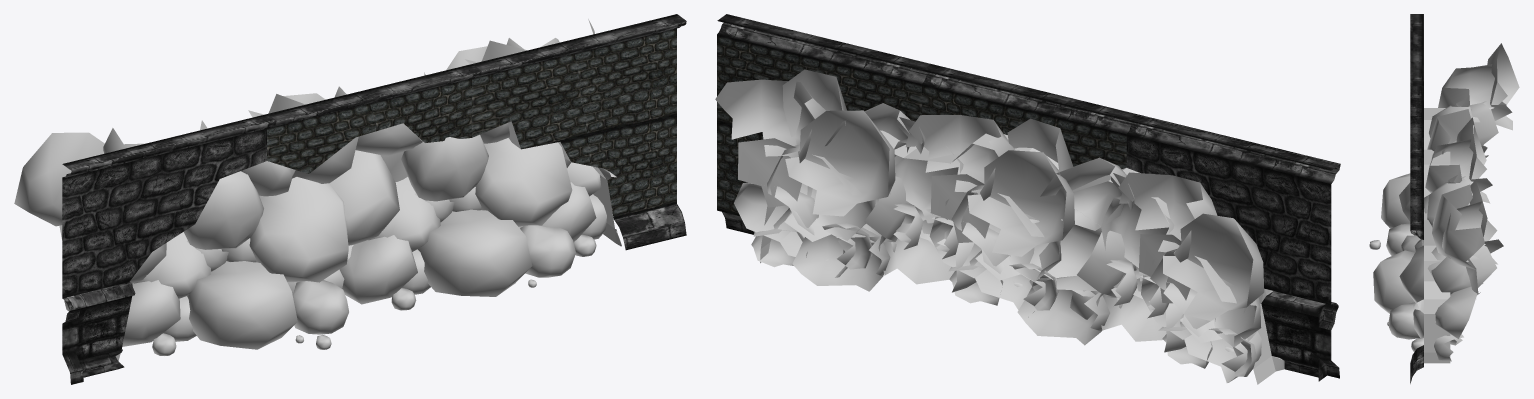
Rendered from default_3x1_broken.dae.
3 views of the same model, side by side, from view 1: azimuth 30°, elevation 25°; view 2: azimuth 150°, elevation 25°; view 3: azimuth 270°, elevation 25° (orthographic). The views are drawn at different scales.
Visible parts, largest first — view 1: polySurface68, polySurface124, polySurface21, polySurface123, polySurface24; view 2: polySurface68, polySurface21, polySurface124, polySurface123, polySurface24; view 3: polySurface68, polySurface24, polySurface123, polySurface21.
Boxes of the visible parts, x1,y1,x2,y2 form: polySurface68: [14, 19, 606, 355]; polySurface124: [267, 28, 676, 219]; polySurface21: [62, 114, 276, 384]; polySurface123: [267, 14, 686, 250]; polySurface24: [115, 121, 621, 360]; polySurface68: [715, 69, 1264, 382]; polySurface21: [1126, 114, 1340, 381]; polySurface124: [717, 34, 1126, 215]; polySurface123: [717, 14, 1135, 234]; polySurface24: [760, 130, 1284, 384]; polySurface68: [1369, 43, 1519, 361]; polySurface24: [1413, 108, 1450, 363]; polySurface123: [1410, 86, 1423, 383]; polySurface21: [1410, 14, 1423, 85].
Size of the model in its own units: 12 by 4.01 by 3.52.
